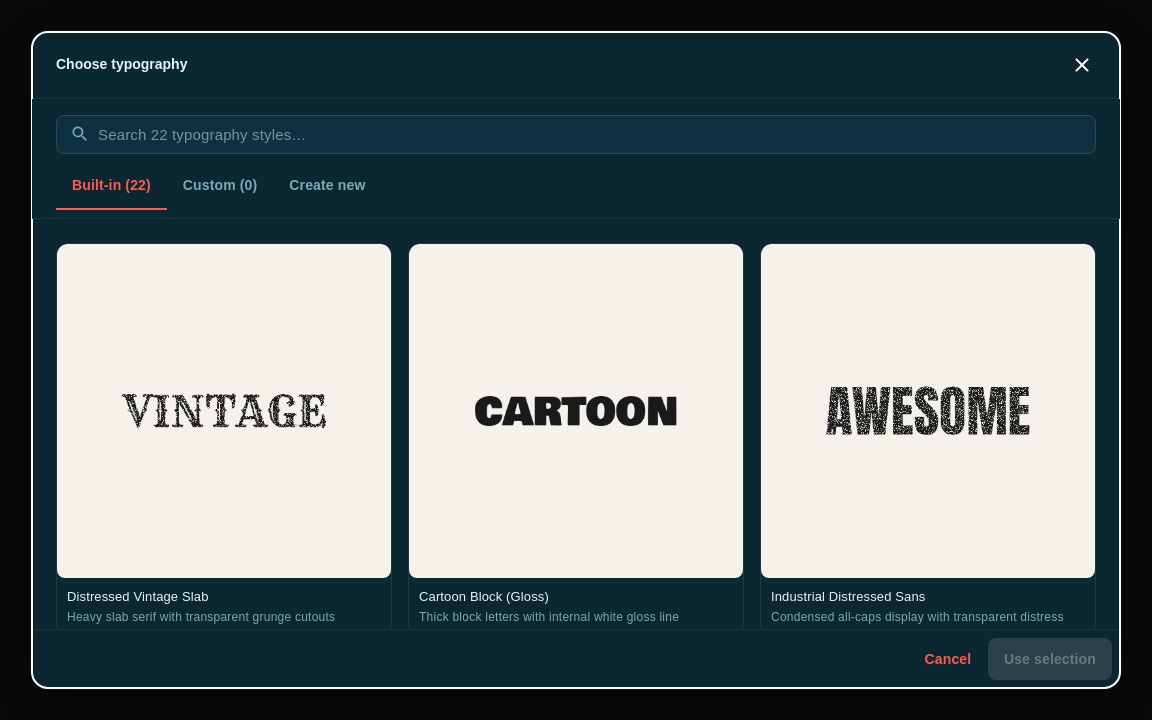
Test case: TypographyPickerModal › clicking a card sets local selection and enables "Use selection"
The image size is (1152, 720).
Expected: the button "Use selection" is disabled, [988, 638, 1112, 680]
Step 1. Click the button with aria-label "Select Distressed Vintage Slab" → {"x": 224, "y": 440}, box [57, 244, 391, 636]
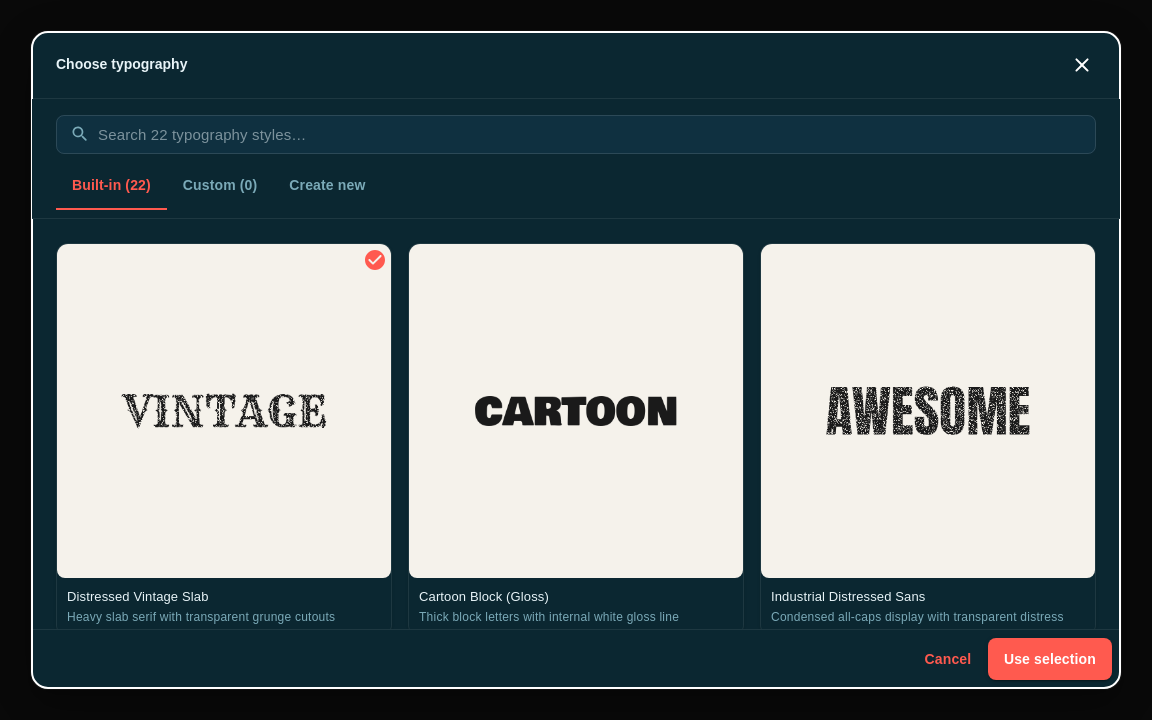
Expected: the button "Use selection" is enabled, [988, 638, 1112, 680]
